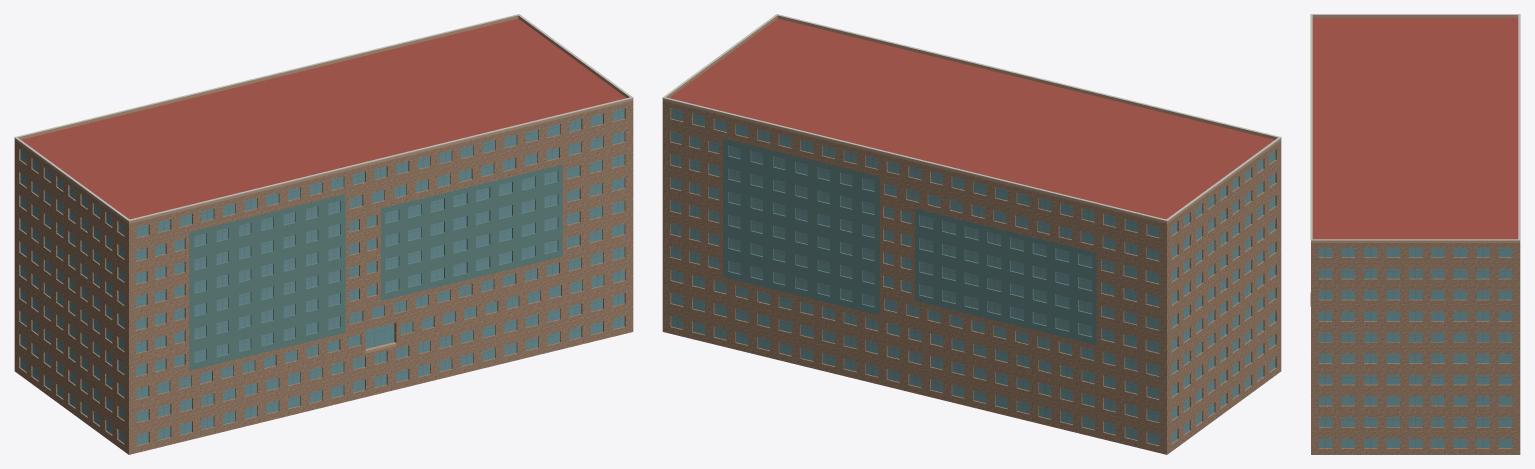
The picture shows the model from 3 angles, left to right: view 1: azimuth 30°, elevation 25°; view 2: azimuth 150°, elevation 25°; view 3: azimuth 270°, elevation 25°; orthographic projection. The views are drawn at different scales.
Parts seen in each view (by area): view 1: dormNew__wall, dormNew__roof, dormNew__glass, dormNew__wall2, dormNew__frame, dormNew__parapet, dormNew__trim; view 2: dormNew__wall, dormNew__roof, dormNew__glass, dormNew__wall2, dormNew__frame, dormNew__parapet, dormNew__trim; view 3: dormNew__roof, dormNew__wall, dormNew__glass, dormNew__frame, dormNew__trim, dormNew__parapet.
Boxes of the visible parts, bbox=[...] form: dormNew__wall: bbox=[14, 101, 633, 454]; dormNew__roof: bbox=[21, 18, 630, 454]; dormNew__glass: bbox=[20, 108, 624, 445]; dormNew__wall2: bbox=[189, 164, 562, 370]; dormNew__frame: bbox=[20, 110, 624, 443]; dormNew__parapet: bbox=[14, 15, 633, 223]; dormNew__trim: bbox=[14, 14, 633, 221]; dormNew__wall: bbox=[662, 101, 1281, 454]; dormNew__roof: bbox=[665, 18, 1274, 454]; dormNew__glass: bbox=[670, 108, 1275, 445]; dormNew__wall2: bbox=[723, 139, 1096, 344]; dormNew__frame: bbox=[670, 110, 1275, 443]; dormNew__parapet: bbox=[662, 15, 1281, 223]; dormNew__trim: bbox=[662, 14, 1281, 221]; dormNew__roof: bbox=[1312, 18, 1518, 239]; dormNew__wall: bbox=[1311, 243, 1520, 454]; dormNew__glass: bbox=[1319, 248, 1512, 447]; dormNew__frame: bbox=[1319, 248, 1512, 448]; dormNew__trim: bbox=[1310, 14, 1520, 240]; dormNew__parapet: bbox=[1311, 15, 1520, 242].
Size of the model in its own units: 82.4 by 36.52 by 32.4.
Materials: 9 (1 with a texture image).
